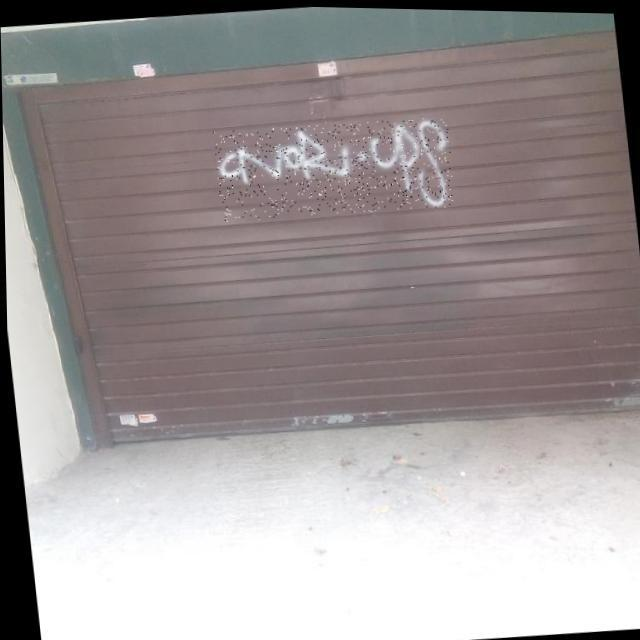-: (212, 110, 456, 224)
